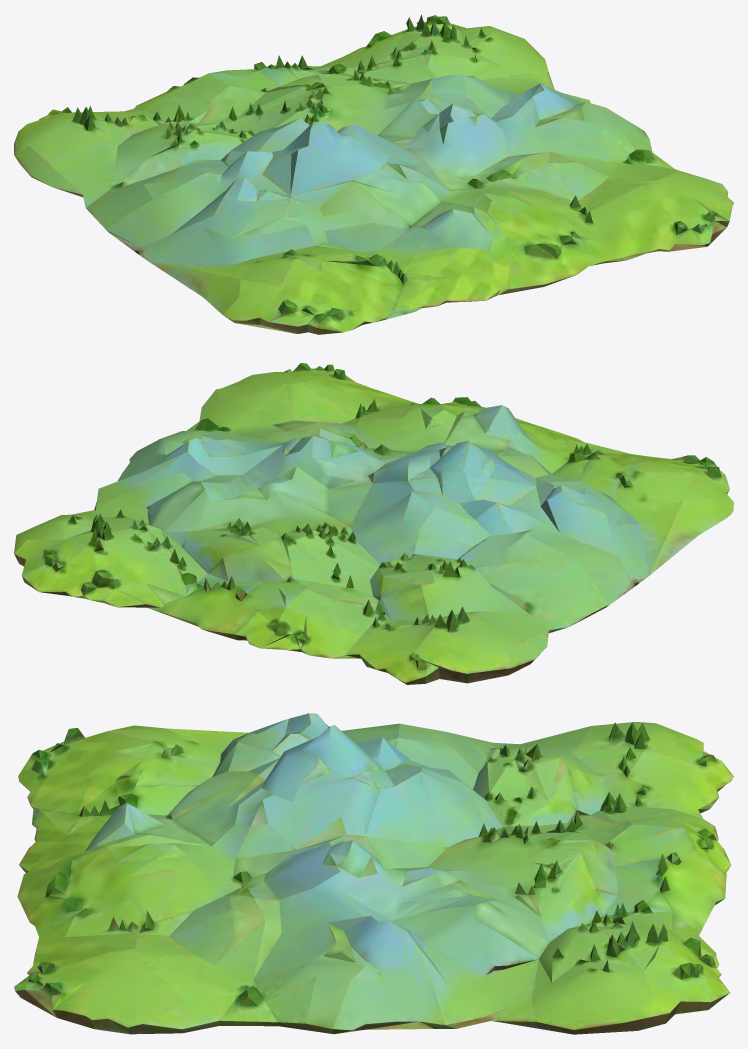
File: distant-mountains.glb
3 views of the same model, one above another, from view 1: azimuth 30°, elevation 25°; view 2: azimuth 150°, elevation 25°; view 3: azimuth 270°, elevation 25° (orthographic). The views are drawn at different scales.
Parts seen in each view (by area): view 1: output_unwrapped; view 2: output_unwrapped; view 3: output_unwrapped.
Part boxes in pixels (x1,y1,x2,y2): output_unwrapped: [14, 14, 733, 334]; output_unwrapped: [14, 363, 733, 684]; output_unwrapped: [14, 713, 733, 1034].
Size of the model in its own units: 1.9 by 0.3454 by 1.93.
1 material, 1 textured.
